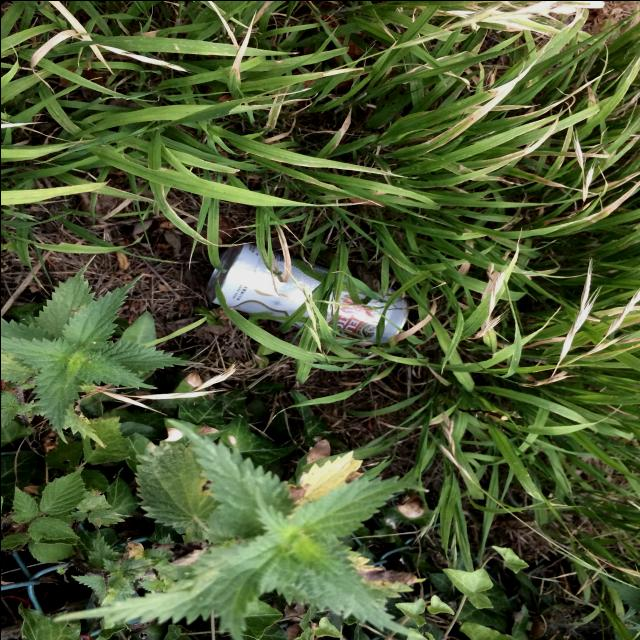Drink can: (204, 240, 408, 345)
